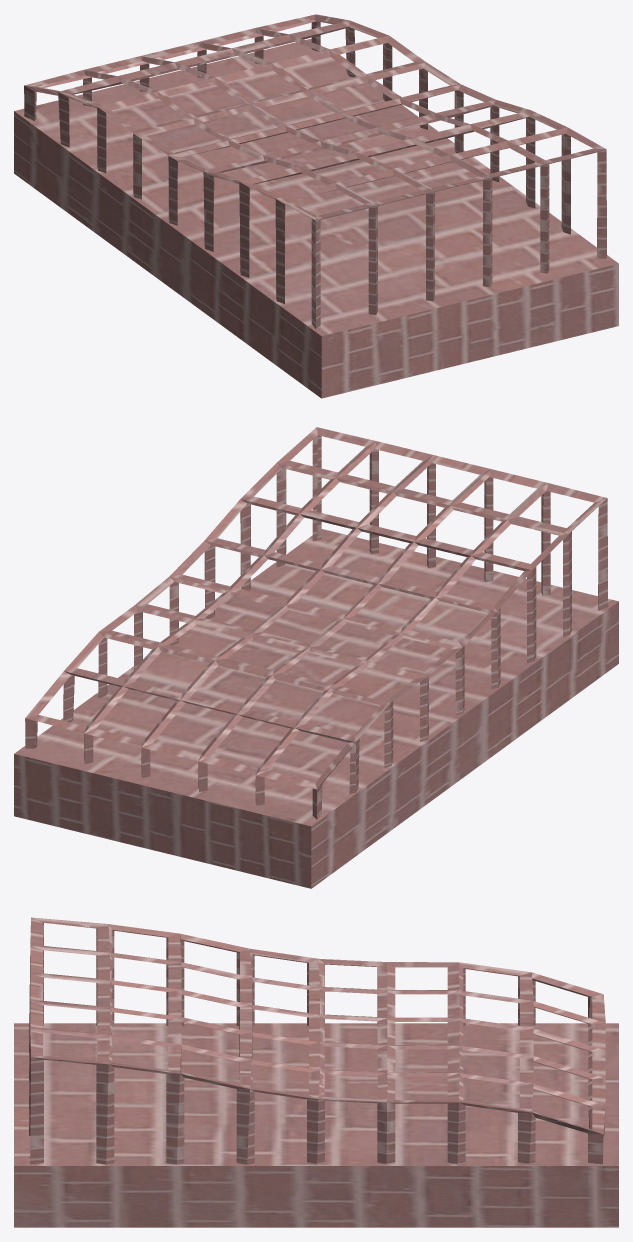
The model's file is CasaRosada.gltf.
3 views of the same model, one above another, from view 1: azimuth 30°, elevation 25°; view 2: azimuth 150°, elevation 25°; view 3: azimuth 270°, elevation 25° (orthographic).
Visible parts, largest first — view 1: CasaRosada; view 2: CasaRosada; view 3: CasaRosada.
Part boxes in pixels (<box>): CasaRosada: <box>14,14,618,398</box>; CasaRosada: <box>14,427,618,888</box>; CasaRosada: <box>14,917,618,1227</box>.
Bounding box in the file's own units: 0.5791 × 0.319 × 1.04.
1 material, 1 textured.
